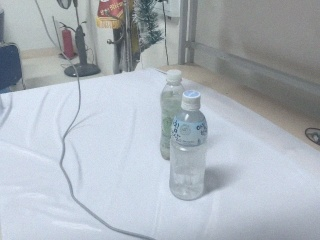bottle: (169, 90, 208, 201), (160, 69, 185, 161)
